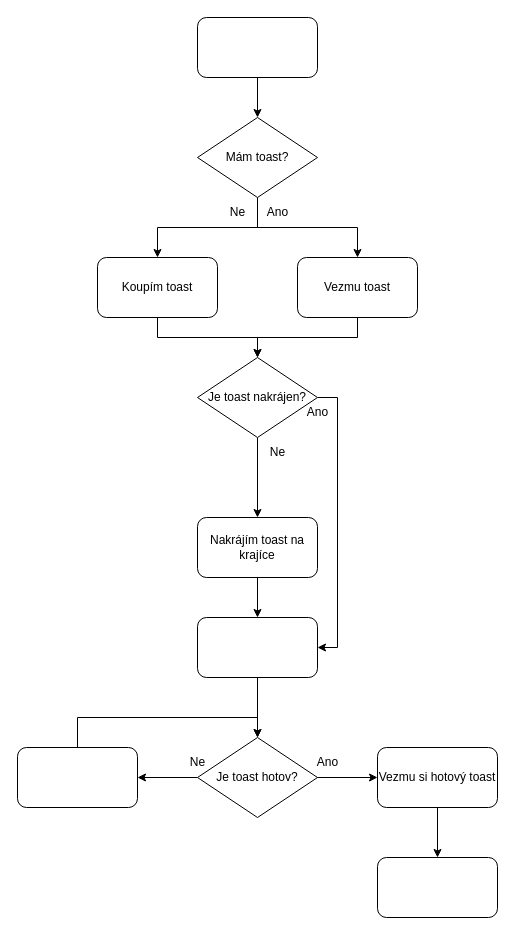
This 515x935 diagram has some shape labels left out. Here are the shapes that lost their labels. From the top down, the centre of each, then its label:
[257,47]: Chci toastík
[257,647]: Vložím toast do toastovače
[77,777]: Čekám
[437,887]: Sním toast
